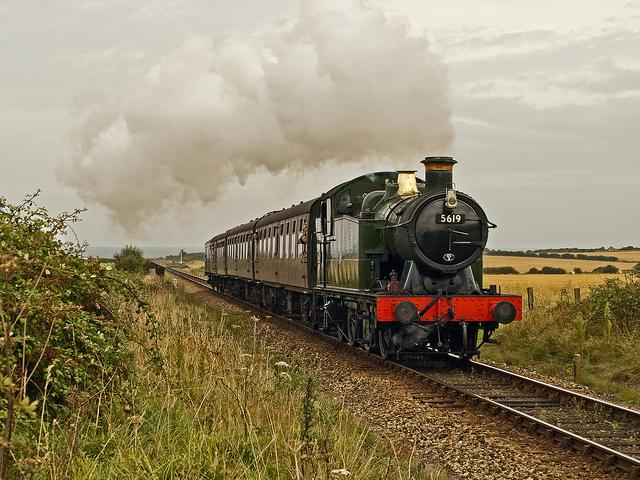Train: (205, 154, 525, 357)
